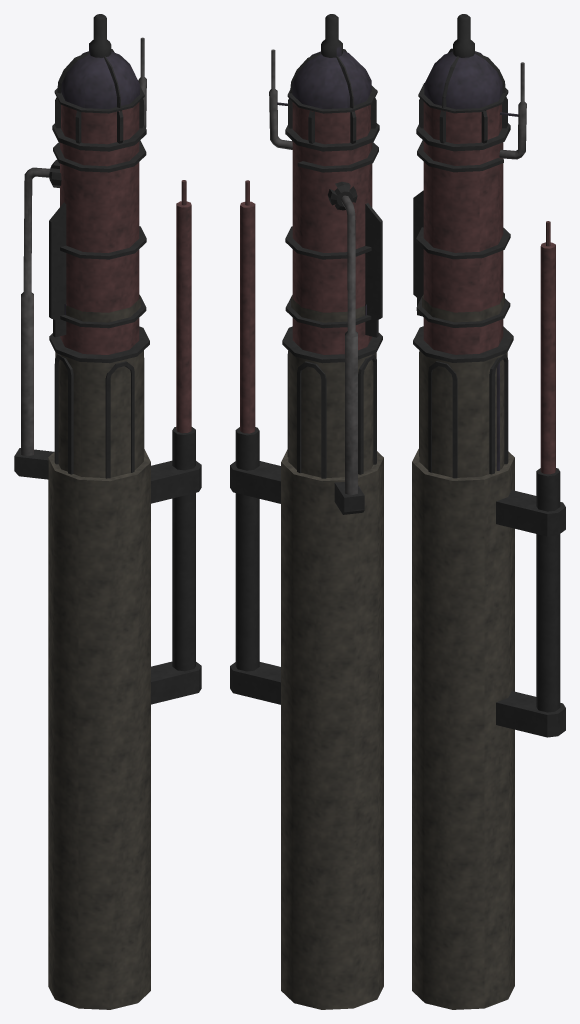
The model's file is ETC0710022.fbx.
3 views of the same model, side by side, from view 1: azimuth 30°, elevation 25°; view 2: azimuth 150°, elevation 25°; view 3: azimuth 330°, elevation 25° (orthographic).
Parts seen in each view (by area): view 1: smETC0710022; view 2: smETC0710022; view 3: smETC0710022.
Boxes of the visible parts, x1,y1,x2,y2 form: smETC0710022: (14, 14, 201, 1009); smETC0710022: (230, 14, 383, 1009); smETC0710022: (412, 14, 565, 1009).
Size of the model in its own units: 2256 by 13337 by 1459.
Materials: 1 (1 with a texture image).
